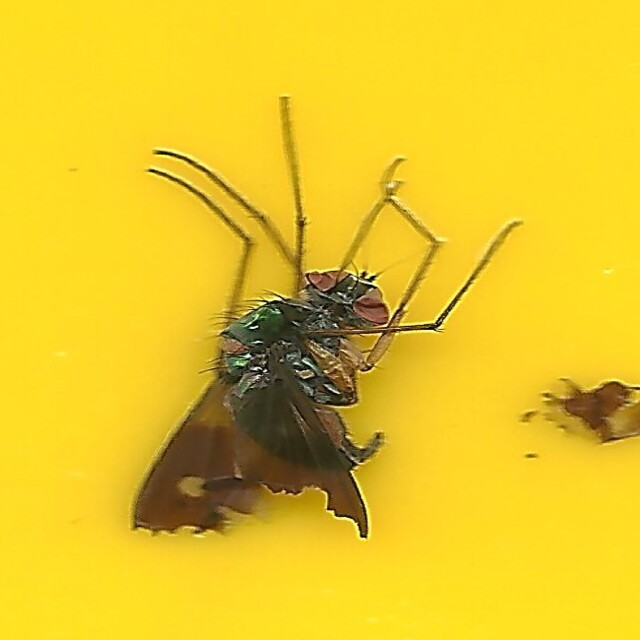Brachycera: (130, 98, 510, 542)
